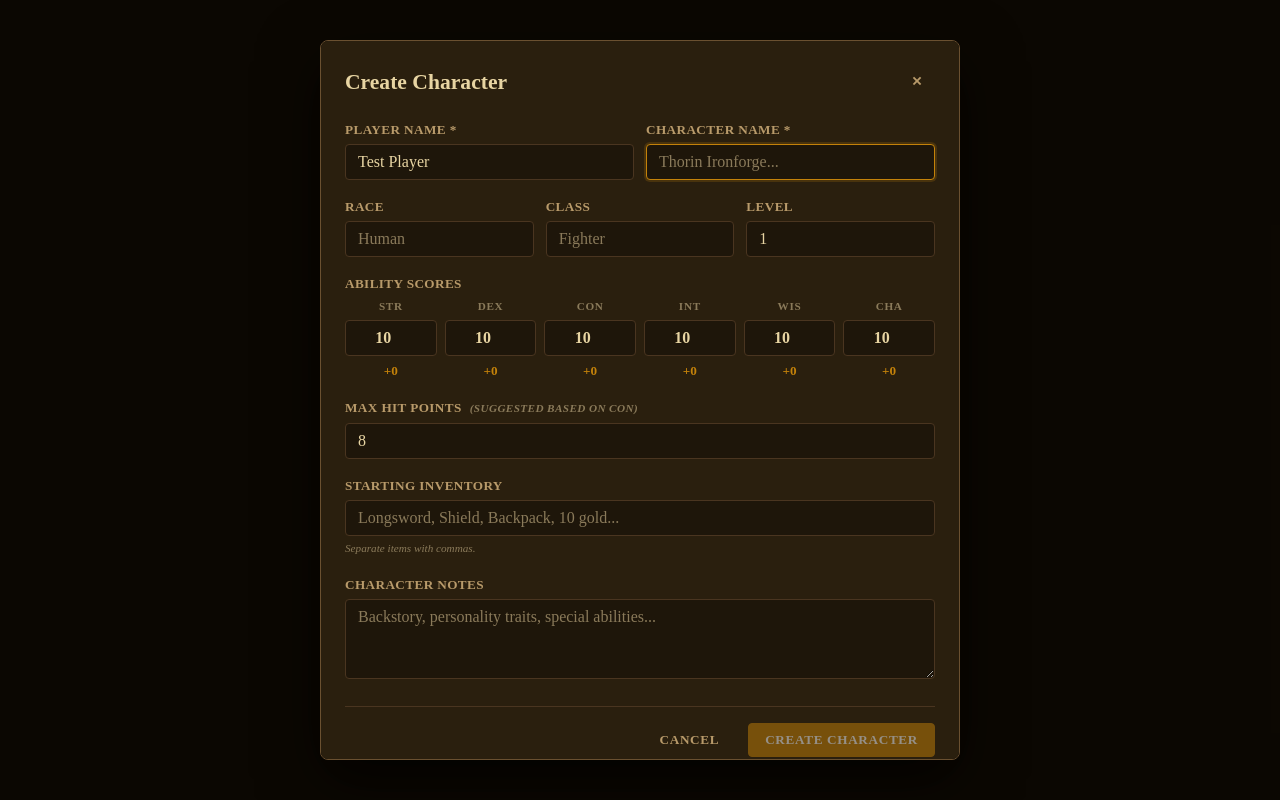
it: CharacterForm › ability score clamping › clamps a stat value above 30 down to 30
Replace the text in the number field titled "Strength" with "99" at (391, 338), box [345, 320, 437, 356]
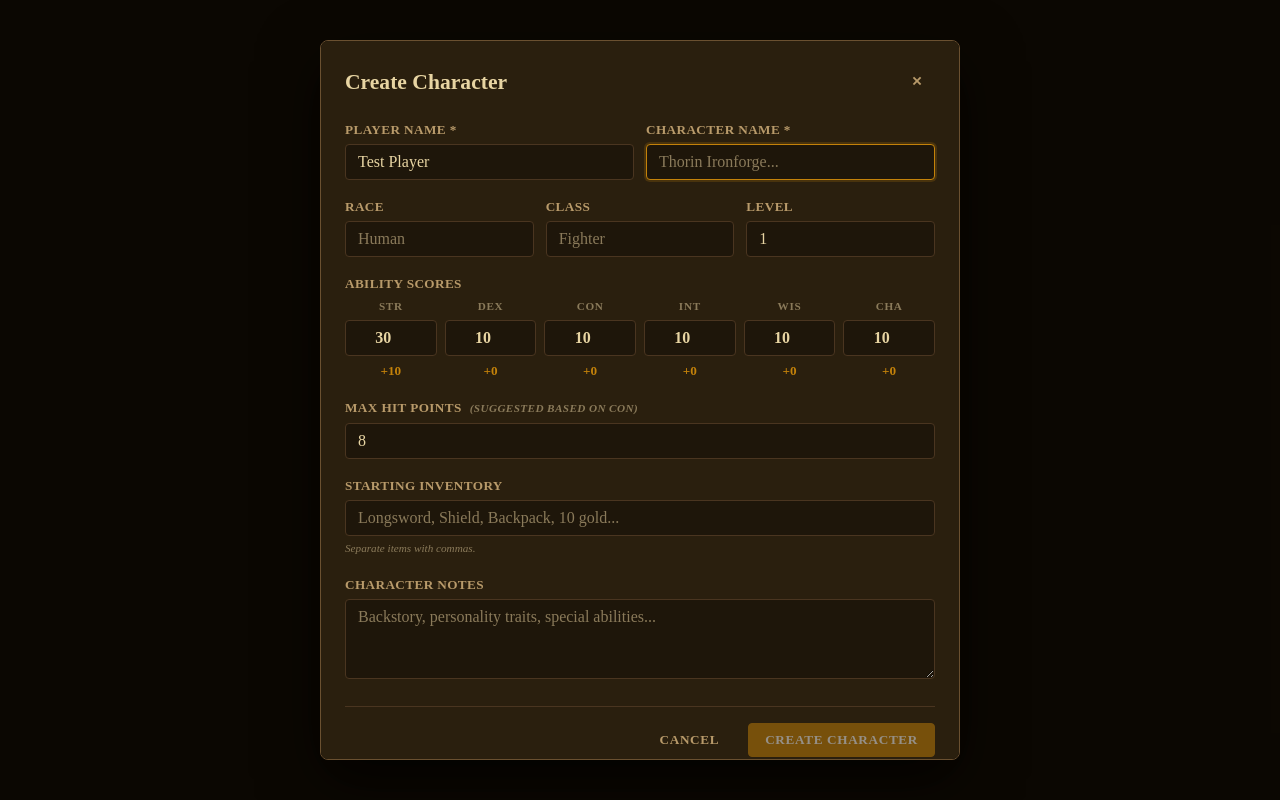
Result: the number field titled "Strength" holds "30" at [345, 320, 437, 356]
